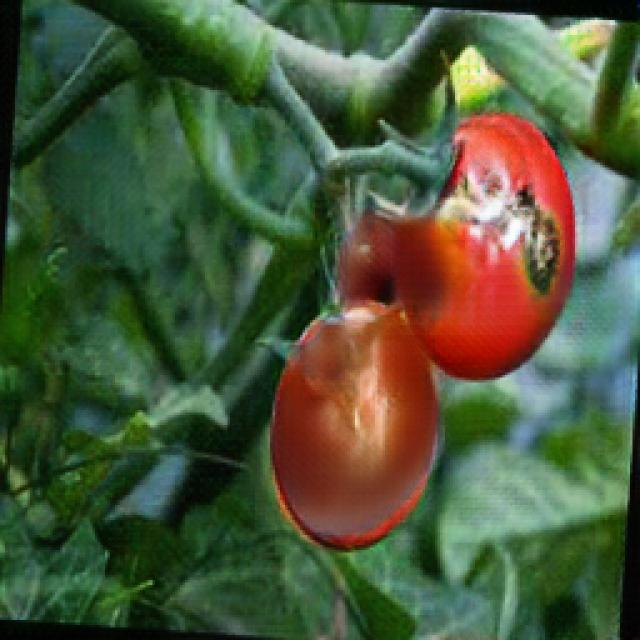overripe tomato: (378, 110, 573, 376)
